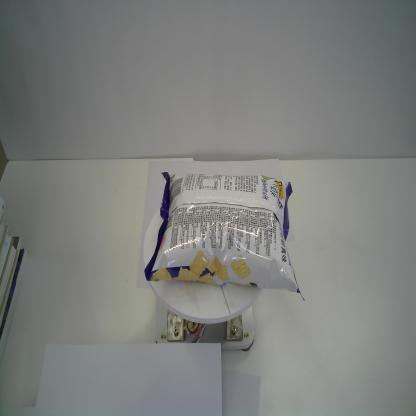Puffed Food: (142, 170, 308, 304)
